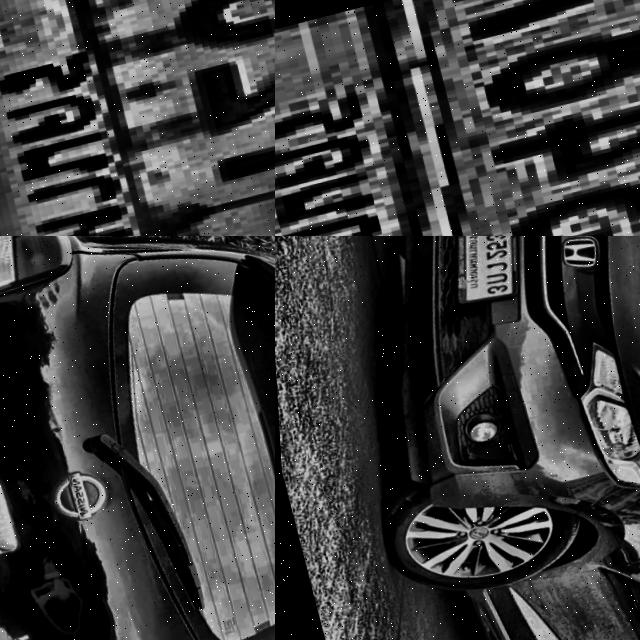license-plate: (275, 0, 640, 236), (0, 0, 275, 236), (435, 236, 534, 314)
